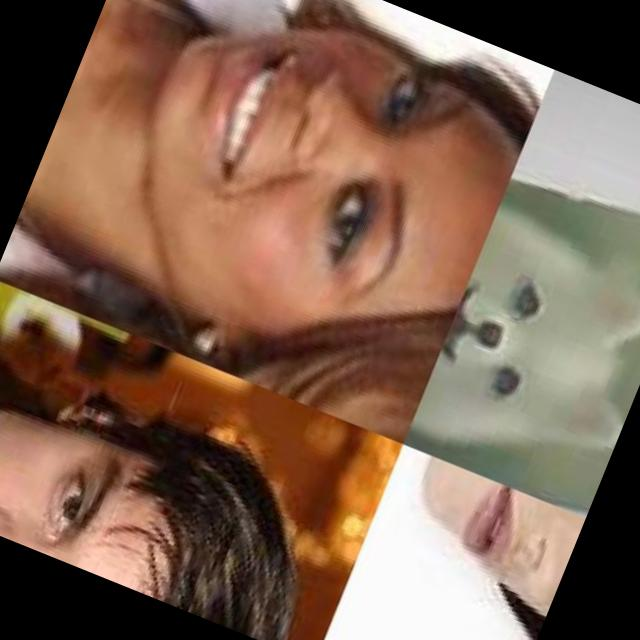bareface: (49, 0, 529, 415)
